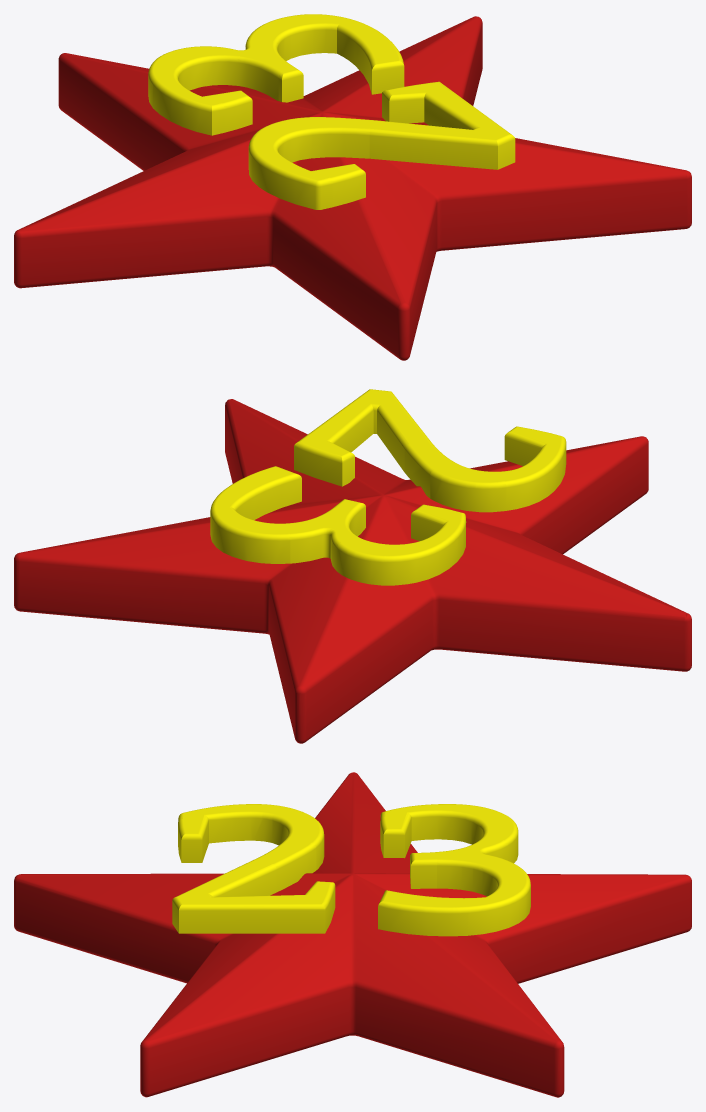
3 renders of one model, top to bottom at view 1: azimuth 30°, elevation 25°; view 2: azimuth 150°, elevation 25°; view 3: azimuth 270°, elevation 25°, orthographic. The views are drawn at different scales.
Parts seen in each view (by area): view 1: Lofted.011, Extruded.005, Extruded.006; view 2: Lofted.011, Extruded.006, Extruded.005; view 3: Lofted.011, Extruded.005, Extruded.006.
Boxes of the visible parts, left/top/right/bottom form: Lofted.011: left=14, top=16, right=691, bottom=360; Extruded.005: left=248, top=81, right=515, bottom=209; Extruded.006: left=148, top=14, right=404, bottom=135; Lofted.011: left=14, top=399, right=691, bottom=743; Extruded.006: left=210, top=466, right=466, bottom=585; Extruded.005: left=294, top=389, right=566, bottom=512; Lofted.011: left=14, top=772, right=691, bottom=1097; Extruded.005: left=172, top=804, right=335, bottom=933; Extruded.006: left=378, top=804, right=530, bottom=936.
Bounding box in the file's own units: 1.9 × 0.3792 × 1.99.
